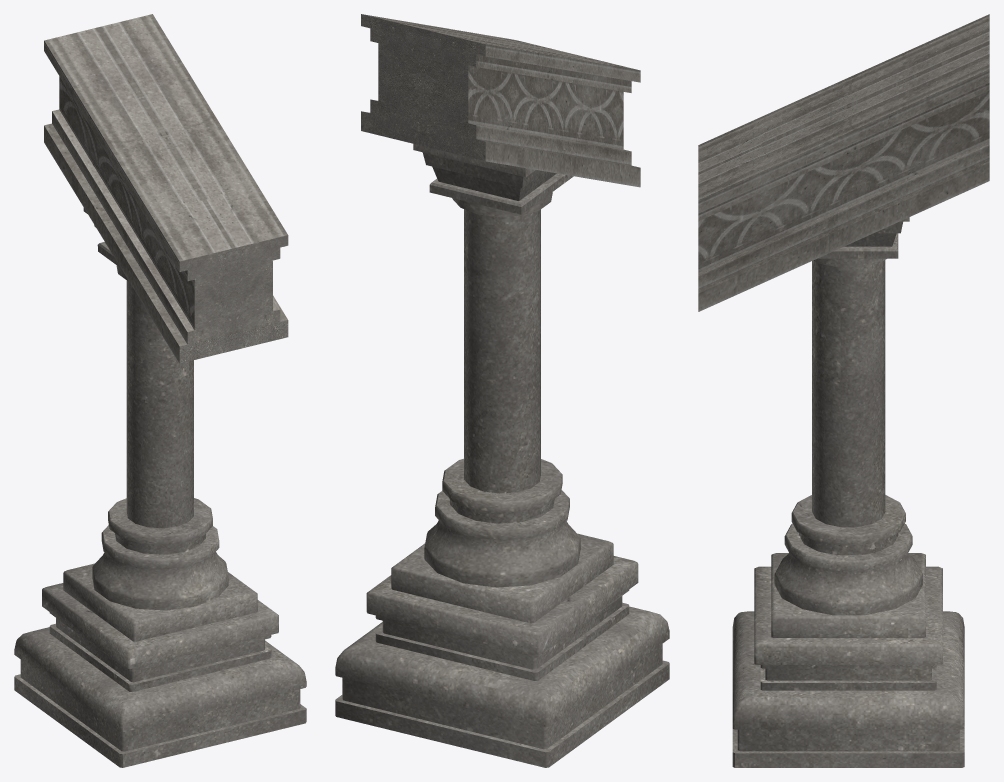
File: SM_Railing_Stairs.fbx
3 renders of one model, left to right at view 1: azimuth 30°, elevation 25°; view 2: azimuth 150°, elevation 25°; view 3: azimuth 270°, elevation 25°, orthographic. The views are drawn at different scales.
Parts seen in each view (by area): view 1: SM_Railing_Stairs_LOD0; view 2: SM_Railing_Stairs_LOD0; view 3: SM_Railing_Stairs_LOD0.
Boxes of the visible parts, x1,y1,x2,y2 form: SM_Railing_Stairs_LOD0: [14, 14, 306, 767]; SM_Railing_Stairs_LOD0: [335, 14, 669, 767]; SM_Railing_Stairs_LOD0: [698, 14, 989, 767].
Size of the model in its own units: 40 by 50.31 by 129.
